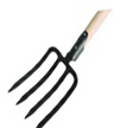Fork: (7, 7, 117, 127)
